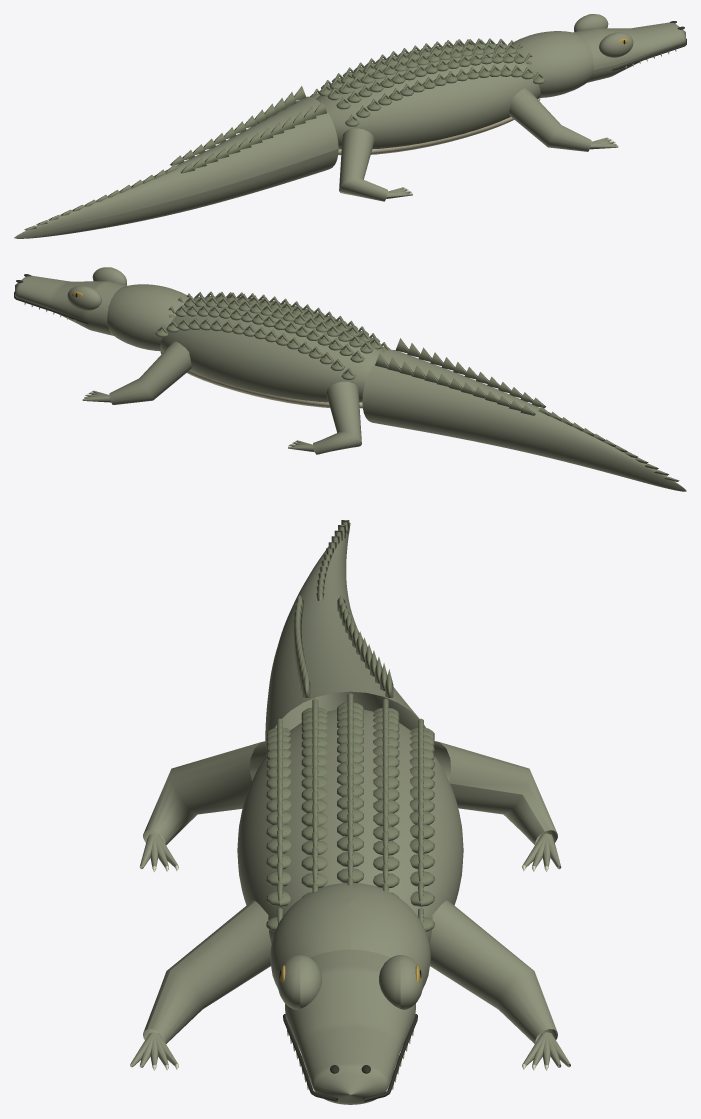
Rendered from earth3d3-lolong.glb.
3 renders of one model, top to bottom at view 1: azimuth 30°, elevation 25°; view 2: azimuth 150°, elevation 25°; view 3: azimuth 270°, elevation 25°, orthographic. The views are drawn at different scales.
Parts seen in each view (by area): view 1: Authored grey-olive adult skin, Dorsal osteoderms, Cream-colored ventral skin; view 2: Authored grey-olive adult skin, Dorsal osteoderms, Cream-colored ventral skin; view 3: Authored grey-olive adult skin, Dorsal osteoderms, Mouth seam and nostrils.
Part boxes in pixels (<box>): Authored grey-olive adult skin: <box>14,14,685,238</box>; Dorsal osteoderms: <box>24,38,545,230</box>; Cream-colored ventral skin: <box>338,98,540,155</box>; Authored grey-olive adult skin: <box>15,267,686,491</box>; Dorsal osteoderms: <box>155,291,679,481</box>; Cream-colored ventral skin: <box>160,351,362,408</box>; Authored grey-olive adult skin: <box>130,522,570,1104</box>; Dorsal osteoderms: <box>266,520,434,931</box>; Mouth seam and nostrils: <box>283,1014,417,1101</box>.
Bounding box in the file's own units: 6.17 × 0.7969 × 1.75.
